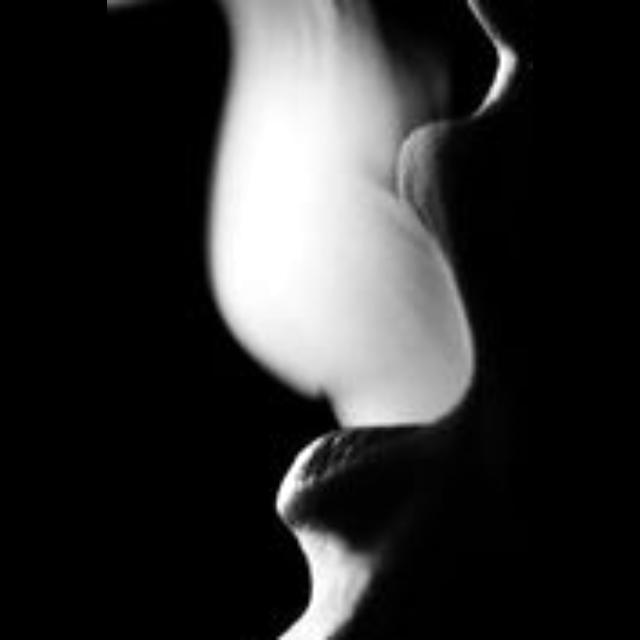smoke: (209, 0, 474, 427)
